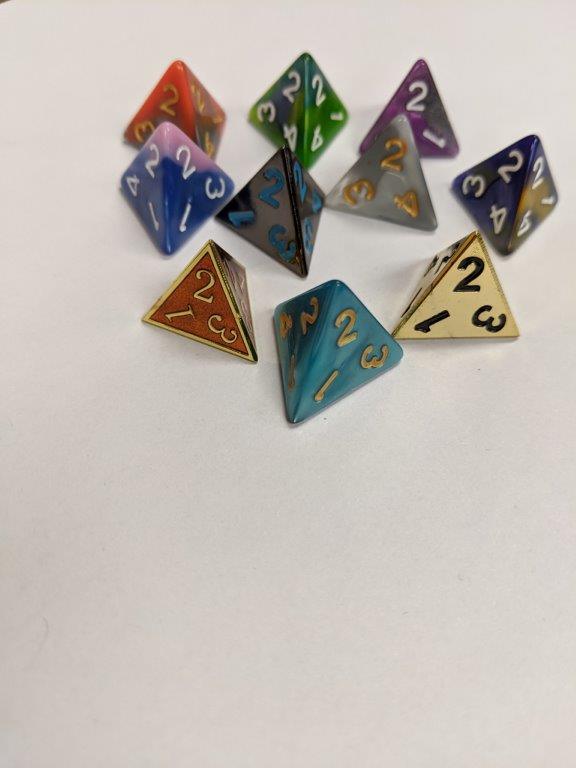d4-2: (269, 277, 403, 427), (130, 238, 258, 367), (321, 111, 442, 242), (388, 230, 523, 347), (213, 142, 324, 282), (115, 125, 230, 249), (451, 134, 563, 254), (244, 46, 347, 166), (118, 54, 228, 161), (356, 58, 462, 159)
